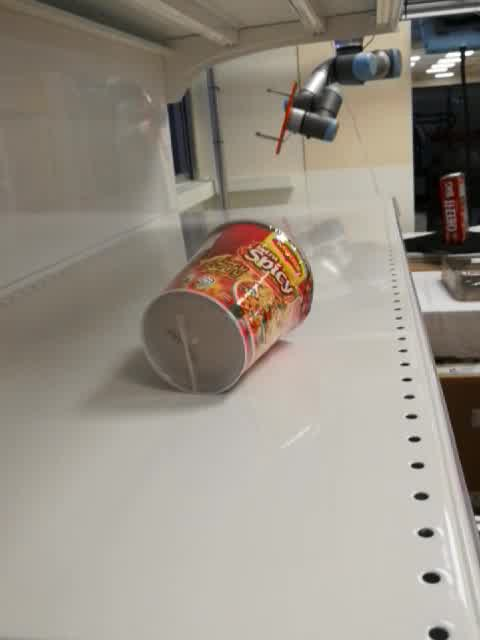maggi: (138, 219, 316, 398)
